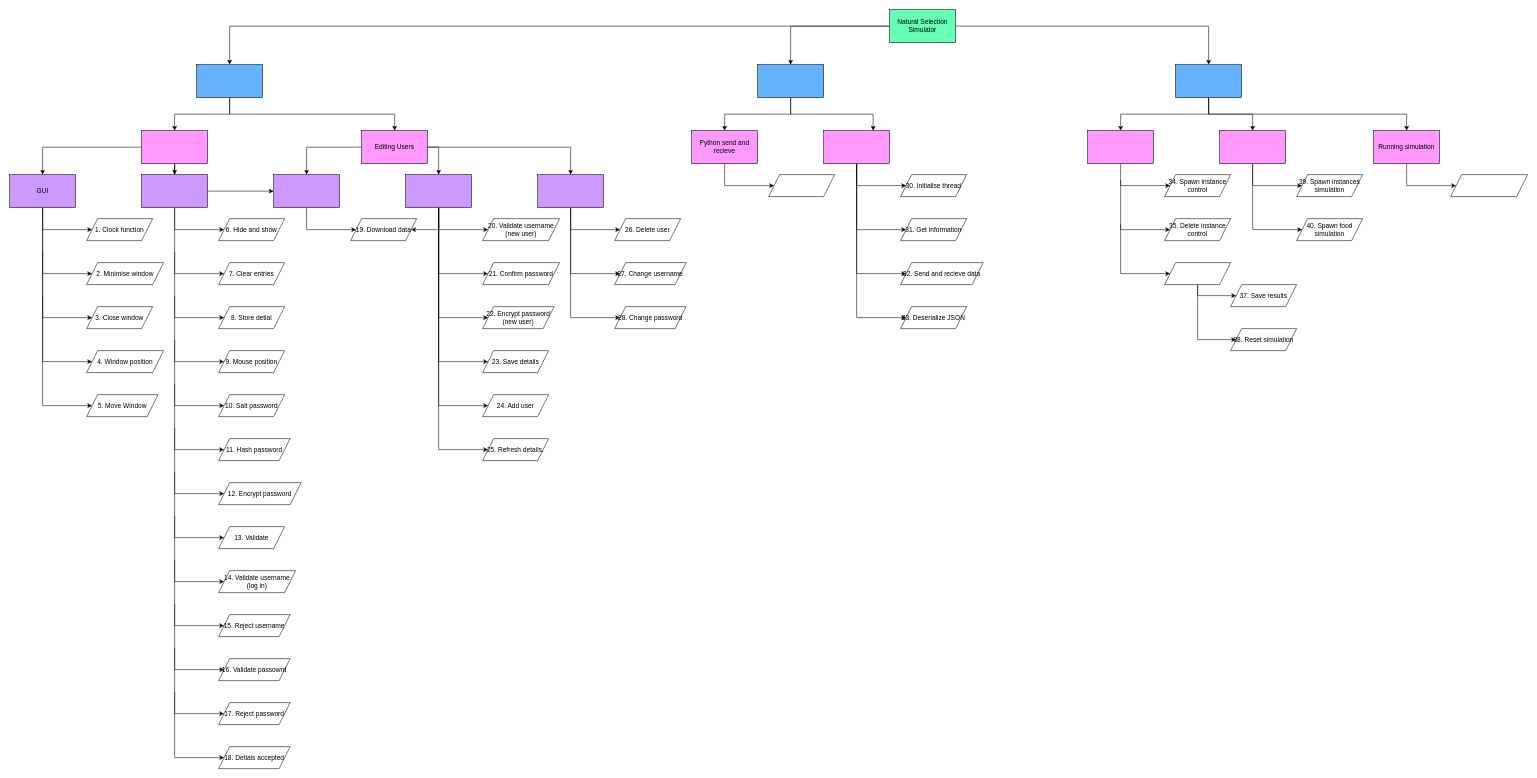
This 1537x778 diagram has some shape labels left out. The box of each missing label's shape, as (x1, y1, x2, y2) in pixels:
29. Send data: (768, 174, 835, 197)
36. End simulation: (1164, 262, 1231, 285)
41. Return current state simulation: (1450, 174, 1528, 197)
Adding new user: (405, 174, 472, 208)
Application Window: (196, 64, 263, 98)
Editing user details: (537, 174, 604, 208)
Log in database: (273, 174, 340, 208)
Log in screen: (141, 130, 208, 164)
Logging in: (141, 174, 208, 208)
Python control: (1087, 130, 1154, 164)
Simulation: (1175, 64, 1242, 98)
Socket communication between Python and Unity: (757, 64, 824, 98)
Start simulation: (1219, 130, 1286, 164)
Unity C# script send and recieve: (823, 130, 890, 164)
